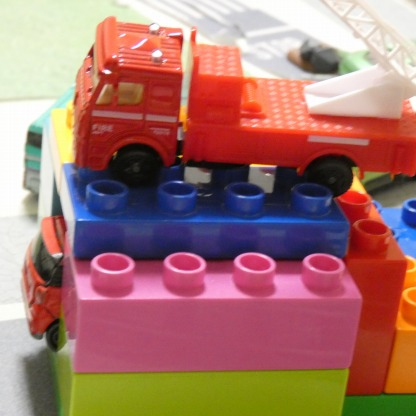car: (69, 15, 416, 181), (15, 217, 78, 349)
